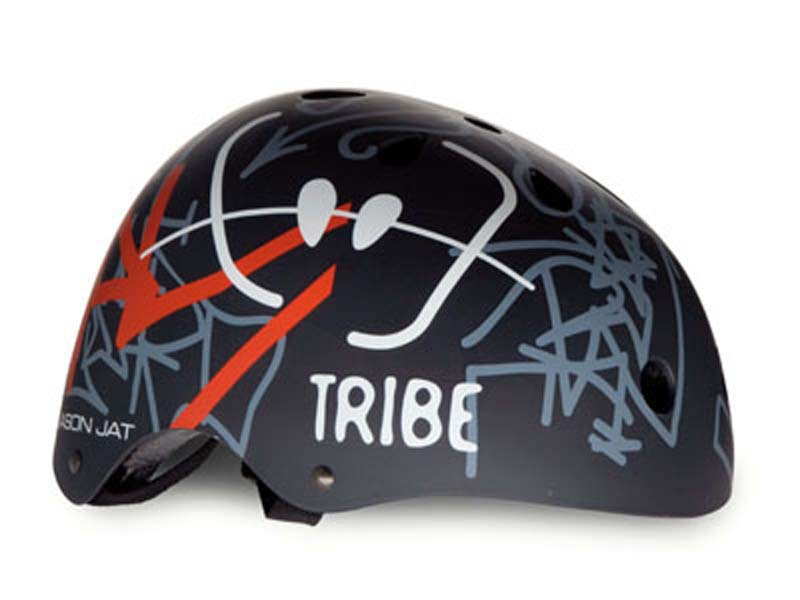helmet: (79, 86, 747, 521)
